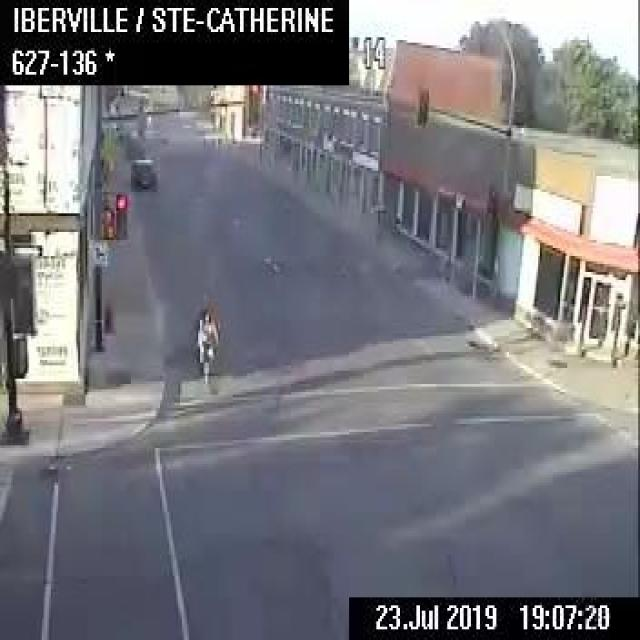cyclist: (195, 304, 218, 381)
vehicle: (128, 156, 156, 190)
